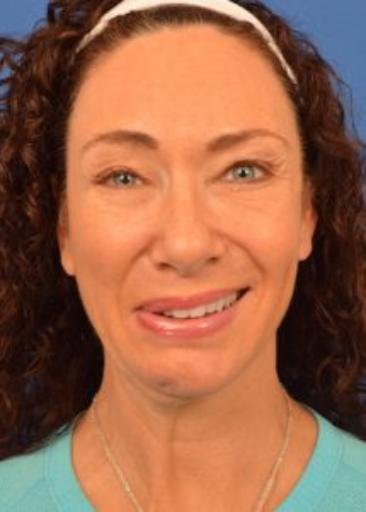left_eye: (213, 161, 276, 186)
left_lip_corner: (240, 281, 259, 296)
right_eye: (94, 171, 154, 192)
right_lip_corner: (128, 302, 143, 320)
